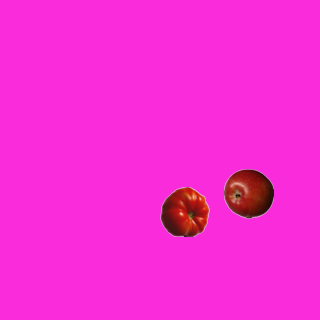Apple Braeburn: (223, 168, 273, 218)
Tomato 3: (159, 186, 209, 236)
